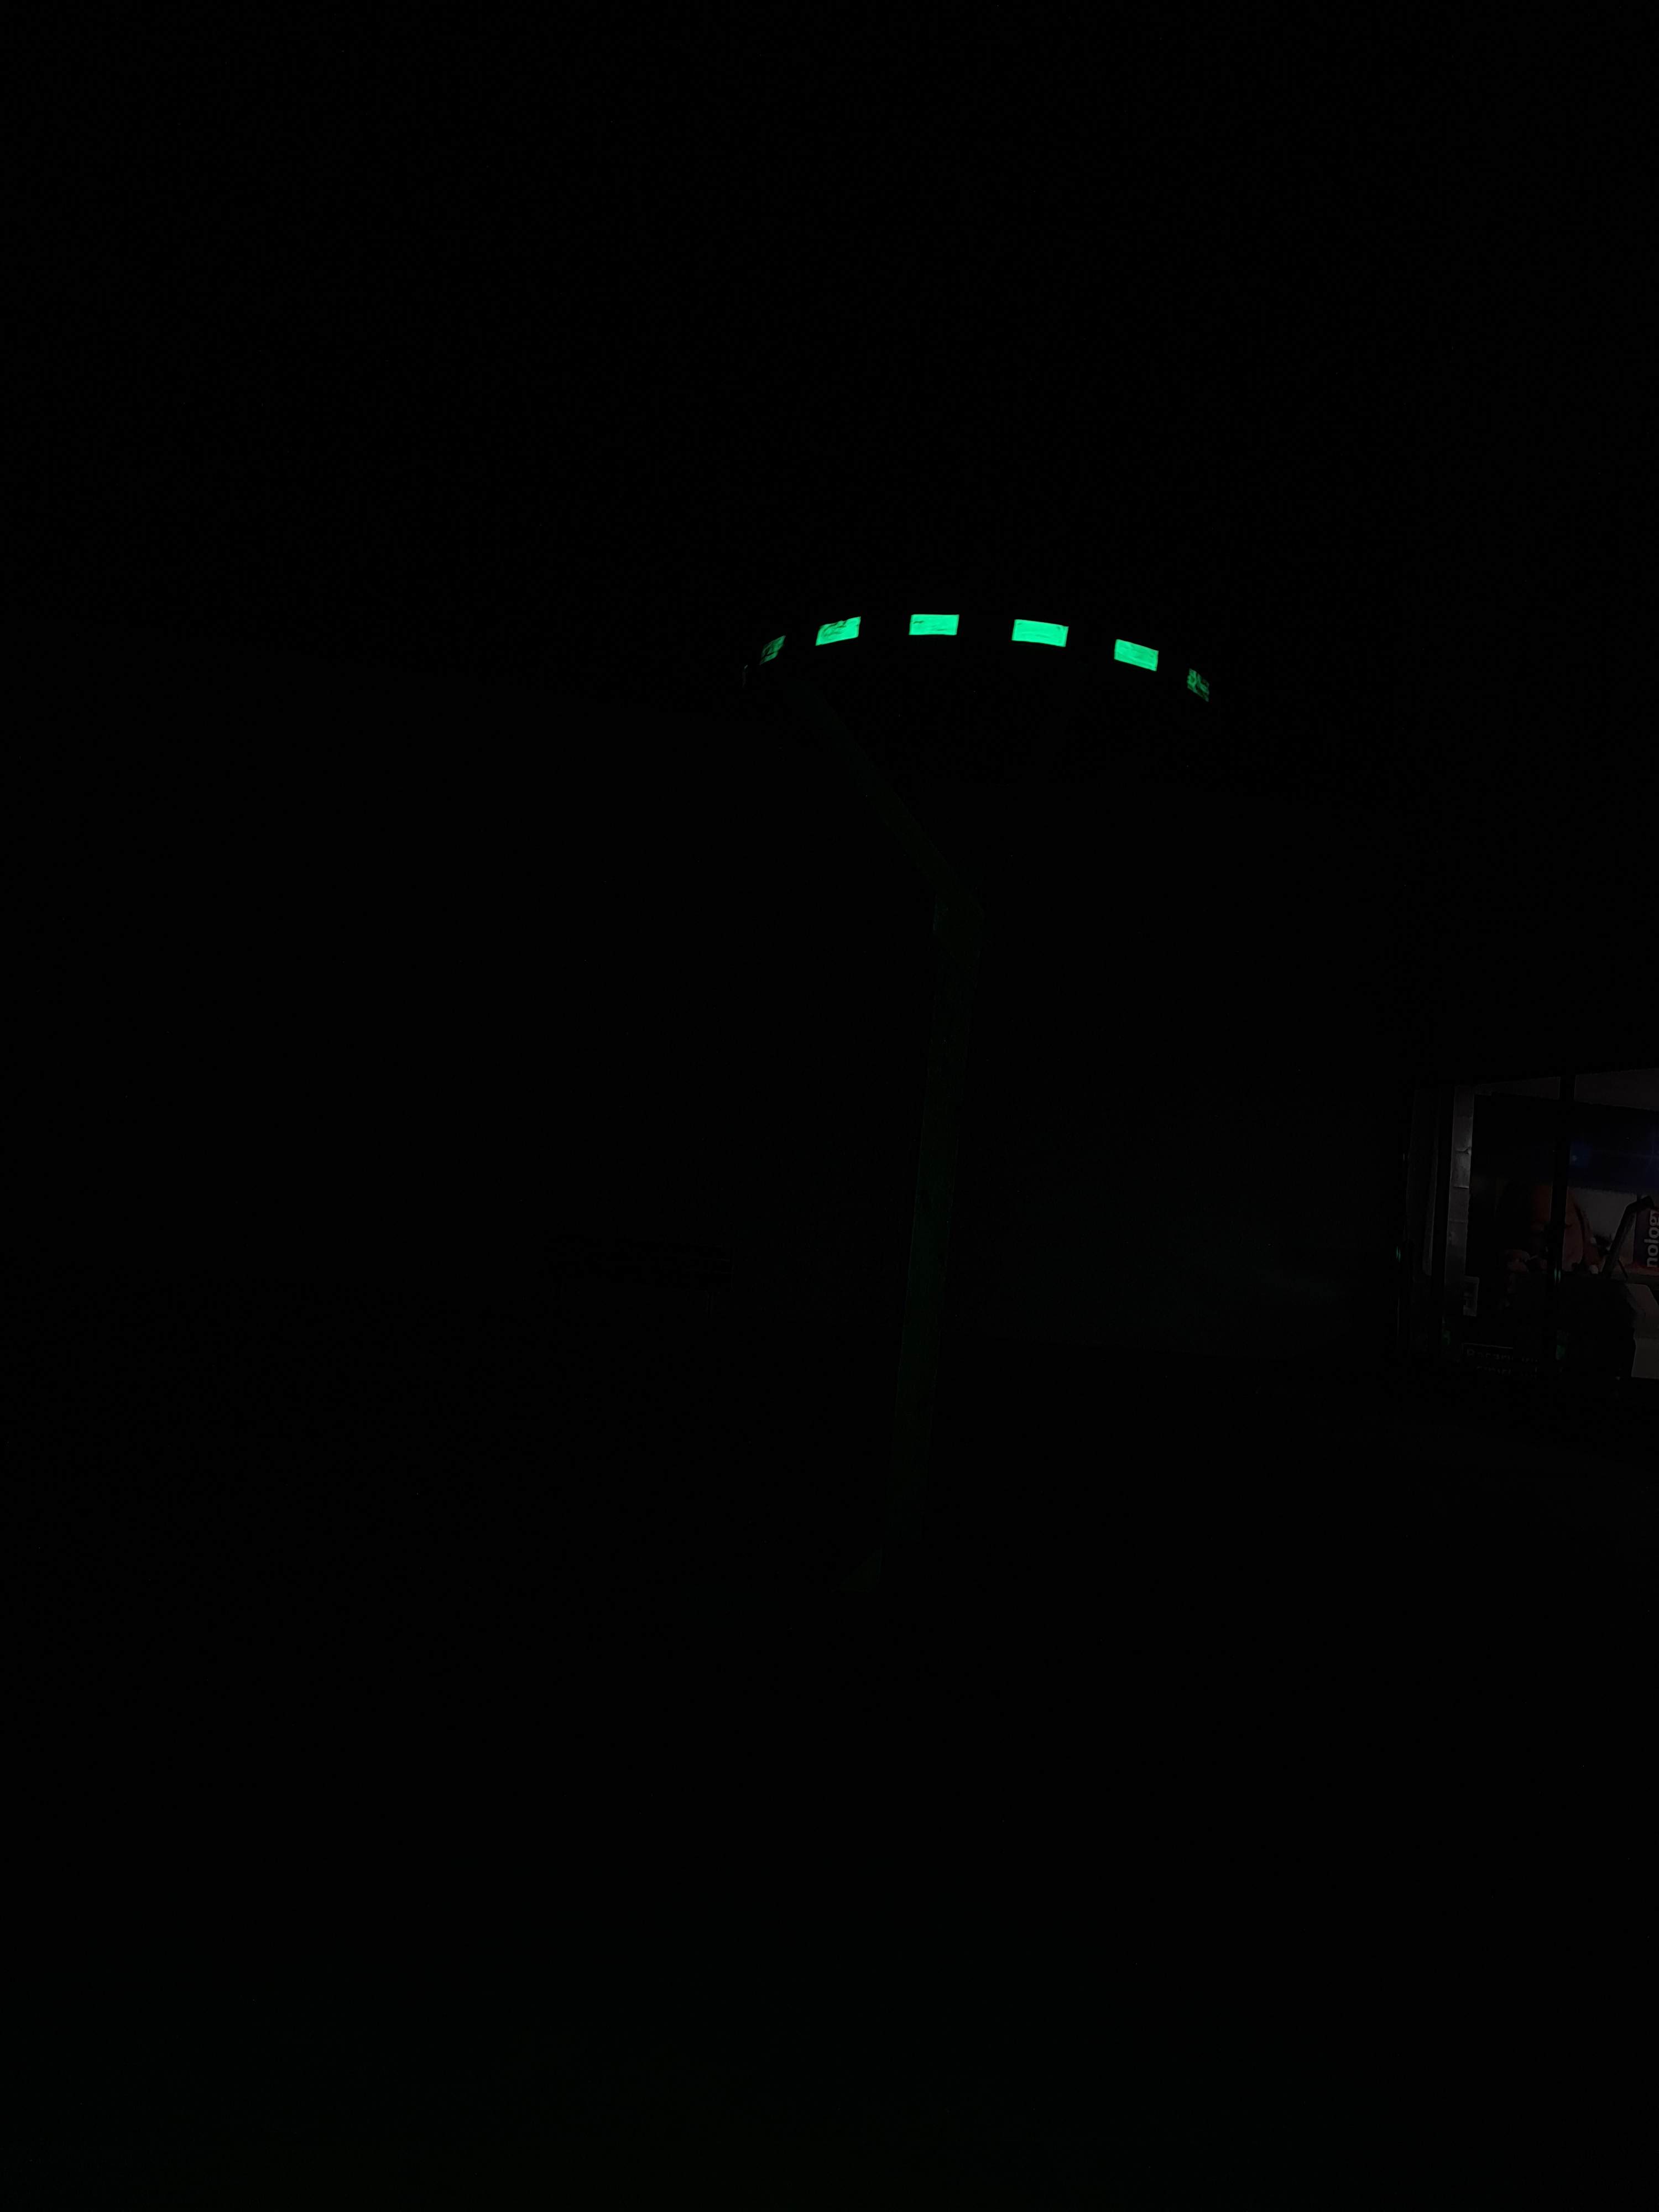hoop: (730, 578, 1218, 719)
